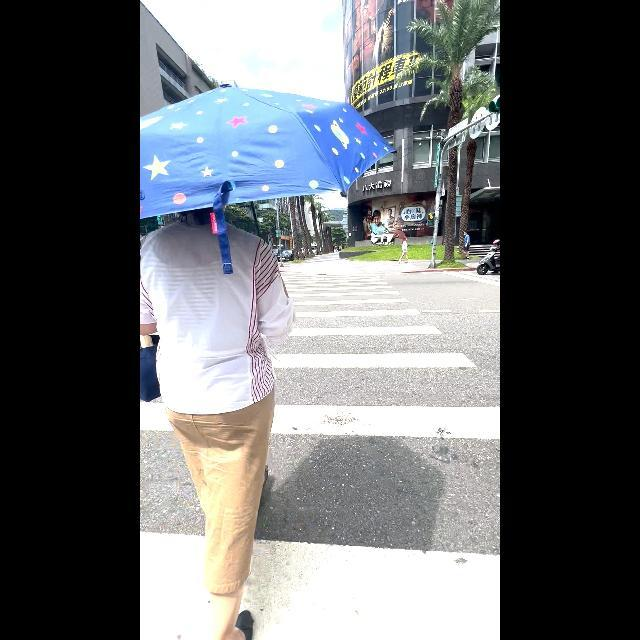sidewalk: (140, 271, 500, 640)
